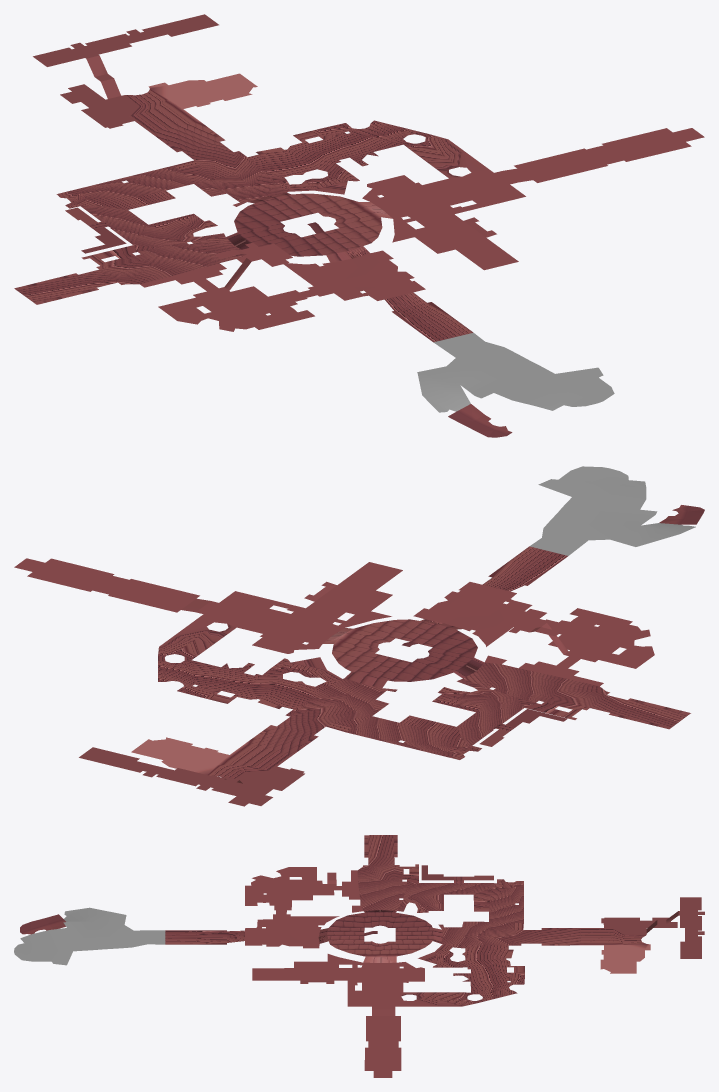
File: scene_luoliante_xinzouquyu_001.FBX
3 renders of one model, top to bottom at view 1: azimuth 30°, elevation 25°; view 2: azimuth 150°, elevation 25°; view 3: azimuth 270°, elevation 25°, orthographic. The views are drawn at different scales.
Parts seen in each view (by area): view 1: scene_luoliante_xinzouquyu_001; view 2: scene_luoliante_xinzouquyu_001; view 3: scene_luoliante_xinzouquyu_001.
Part boxes in pixels (x1,y1,x2,y2): scene_luoliante_xinzouquyu_001: (14, 14, 704, 437); scene_luoliante_xinzouquyu_001: (14, 466, 704, 806); scene_luoliante_xinzouquyu_001: (14, 835, 704, 1077).
Size of the model in its own units: 7045 by 429 by 8508.
